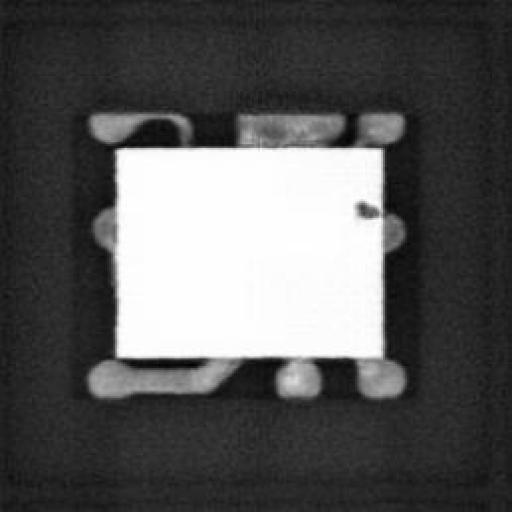DIE_BROKEN: (351, 195, 377, 218)
